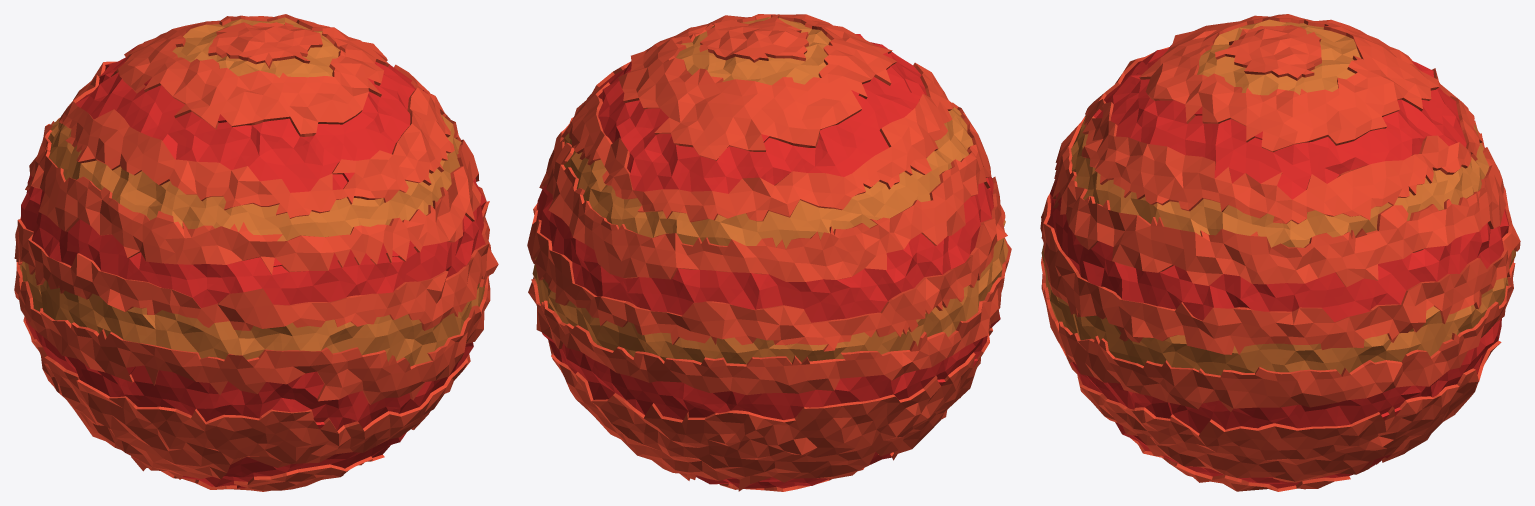
File: Sun_1.fbx
3 renders of one model, left to right at view 1: azimuth 30°, elevation 25°; view 2: azimuth 150°, elevation 25°; view 3: azimuth 270°, elevation 25°, orthographic.
Visible parts, largest first — view 1: SUN(1); view 2: SUN(1); view 3: SUN(1).
Part boxes in pixels (left/top/right/bottom): SUN(1): left=14, top=14, right=498, bottom=491; SUN(1): left=527, top=14, right=1011, bottom=491; SUN(1): left=1040, top=14, right=1520, bottom=491.
Bounding box in the file's own units: 5277 × 5303 × 5300.
